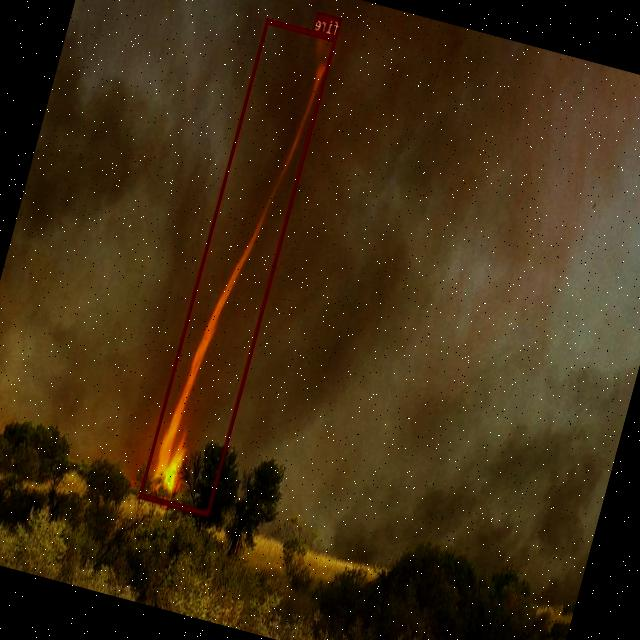fire: (139, 18, 338, 516)
